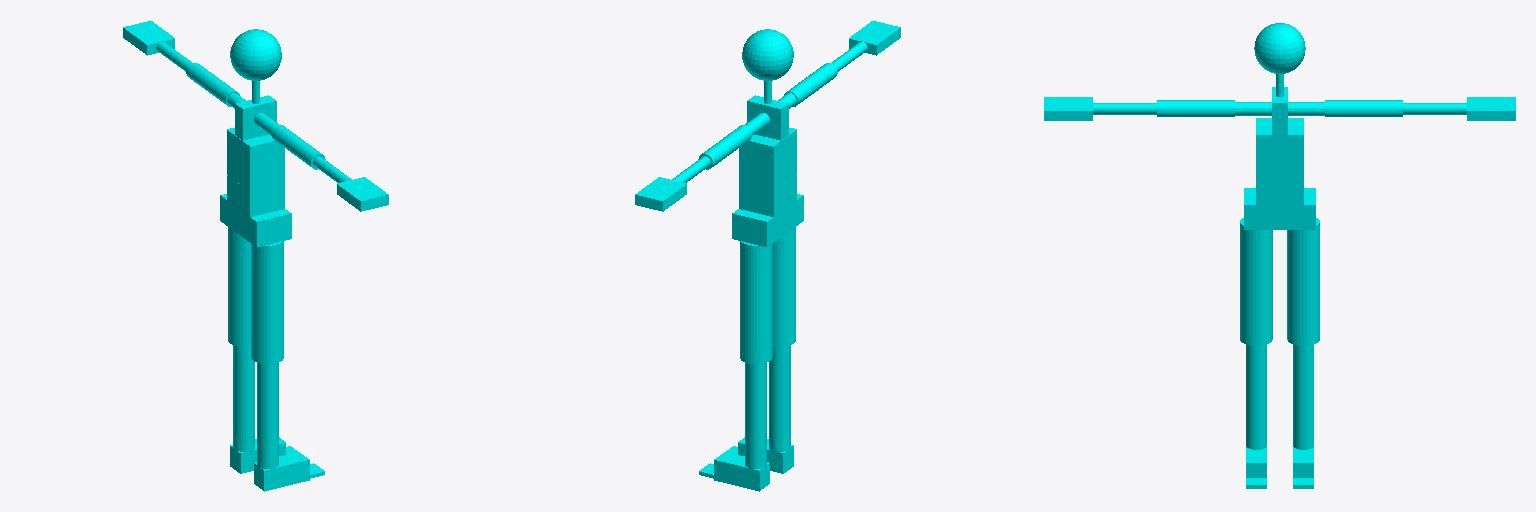
--- What the picture shows (computed from the rendered views, not written in the file) ---
The picture shows the robot from 3 angles, left to right: view 1: azimuth 30°, elevation 25°; view 2: azimuth 150°, elevation 25°; view 3: azimuth 270°, elevation 25°; orthographic projection.
Robot: XSensStyleModel_template — 67 links, 66 joints (66 revolute); root link Pelvis; default pose: all joints at 0.
Visible links, largest first — view 1: RightUpperLeg, LeftUpperLeg, RightLowerLeg, LeftLowerLeg, Head, Pelvis, T12, L5, RightFoot, L3, T8, RightHand (+4 smaller); view 2: LeftUpperLeg, RightUpperLeg, LeftLowerLeg, RightLowerLeg, Head, Pelvis, T12, L5, LeftFoot, L3, T8, LeftHand (+4 smaller); view 3: RightUpperLeg, LeftUpperLeg, Pelvis, RightLowerLeg, LeftLowerLeg, Head, T12, RightUpperArm, LeftUpperArm, L5, RightHand, LeftHand (+6 smaller).
Link boxes in pixels (x1,y1,x2,y2): RightUpperLeg: (251, 241, 283, 363); LeftUpperLeg: (228, 227, 250, 346); RightLowerLeg: (257, 363, 278, 468); LeftLowerLeg: (233, 345, 254, 451); Head: (230, 29, 281, 80); Pelvis: (220, 194, 291, 247); T12: (227, 128, 284, 169); L5: (227, 175, 284, 216); RightFoot: (254, 452, 309, 491); L3: (227, 153, 284, 191); T8: (235, 95, 276, 140); RightHand: (337, 177, 388, 211); LeftUpperLeg: (740, 241, 772, 363); RightUpperLeg: (773, 227, 795, 346); LeftLowerLeg: (745, 363, 766, 468); RightLowerLeg: (769, 345, 790, 451); Head: (742, 29, 793, 80); Pelvis: (732, 194, 803, 247); T12: (739, 128, 796, 169); L5: (739, 175, 796, 216); LeftFoot: (714, 452, 769, 491); L3: (739, 153, 796, 191); T8: (747, 95, 788, 140); LeftHand: (635, 177, 686, 211); RightUpperLeg: (1240, 218, 1272, 345); LeftUpperLeg: (1287, 218, 1319, 345); Pelvis: (1244, 188, 1315, 229); RightLowerLeg: (1246, 345, 1266, 449); LeftLowerLeg: (1293, 345, 1313, 449); Head: (1254, 23, 1305, 73); T12: (1256, 118, 1303, 156); RightUpperArm: (1157, 100, 1234, 116); LeftUpperArm: (1325, 100, 1402, 116); L5: (1256, 180, 1303, 204); RightHand: (1044, 97, 1092, 120); LeftHand: (1467, 97, 1515, 120).
Bounding box of the posed robot: 0.2938 × 1.63 × 1.69 m (x, y, z).
Geometry: primitives only (box / cylinder / sphere), no mesh files.

robot.urdf — XSensStyleModel_template:
<!--URDF MODEL 66 DoFs-->

<robot name="XSensStyleModel_template">
	<!--To open this model with Gazebo replace the null masses, inertias and dimensions of the 'fake links f1 and f2'-->
	<!--LINKS-->
	<!--Link base (1)-->
	<link name="Pelvis">
		<inertial>
			<mass value="4.976"/>
			<!--COM origin wrt pHipOrigin-->
			<origin xyz="0           0    0.049743" rpy="0 0 0" />
			<inertia ixx="0.029678" iyy="0.011854" izz="0.033653" ixy="0" ixz="0" iyz="0"/>
		</inertial>

		<visual>
			<!--box origin wrt pHipOrigin-->
			<origin xyz="0           0    0.049743" rpy="0 0 0" />
			<geometry>
				<box size="0.13815     0.24914    0.097469"/>
			</geometry>
			<material name="Cyan">
				<color rgba="0 1.0 1.0 1.0"/>
			</material>
		</visual>

		<collision>
			<!--box origin wrt pHipOrigin-->
			<origin xyz="0           0    0.049743" rpy="0 0 0" />
			<geometry>
				<box size="0.13815     0.24914    0.097469"/>
			</geometry>
			<material name="Cyan">
				<color rgba="0 1.0 1.0 1.0"/>
			</material>
		</collision>

	</link>
	<!--Chain from (2) to (7)-->
	<link name="L5_f1">
		<inertial>
			<mass value="0"/>
			<origin xyz="0 0 0" rpy="0 0 0" />
			<inertia ixx="0" iyy="0" izz="0" ixy="0" ixz="0" iyz="0"/>
		</inertial>
	</link>
	<link name="L5_f2">
		<inertial>
			<mass value="0"/>
			<origin xyz="0 0 0" rpy="0 0 0" />
			<inertia ixx="0" iyy="0" izz="0" ixy="0" ixz="0" iyz="0"/>
		</inertial>
	</link>
	<link name="L5">
		<inertial>
			<mass value="6.3444"/>
			<!--COM origin wrt jL5S1-->
			<origin xyz="0           0    0.047552" rpy="0 0 0" />
			<inertia ixx="0.018868" iyy="0.014872" izz="0.024177" ixy="0" ixz="0" iyz="0"/>
		</inertial>

		<visual>
			<!--box origin origin wrt jL5S1-->
			<origin xyz="0           0    0.047552" rpy="0 0 0" />
			<geometry>
				<box size="0.13815     0.16323    0.095104"/>
			</geometry>
			<material name="Cyan">
				<color rgba="0 1.0 1.0 1.0"/>
			</material>
		</visual>

		<collision>
			<!--box origin origin wrt jL5S1-->
			<origin xyz="0           0    0.047552" rpy="0 0 0" />
			<geometry>
				<box size="0.13815     0.16323    0.095104"/>
			</geometry>
			<material name="Cyan">
				<color rgba="0 1.0 1.0 1.0"/>
			</material>
		</collision>
	</link>
	<link name="L3_f1">
		<inertial>
			<mass value="0"/>
			<origin xyz="0 0 0" rpy="0 0 0" />
			<inertia ixx="0" iyy="0" izz="0" ixy="0" ixz="0" iyz="0"/>
		</inertial>
	</link>
	<link name="L3_f2">
		<inertial>
			<mass value="0"/>
			<origin xyz="0 0 0" rpy="0 0 0" />
			<inertia ixx="0" iyy="0" izz="0" ixy="0" ixz="0" iyz="0"/>
		</inertial>
	</link>
	<link name="L3">
		<inertial>
			<mass value="6.3444"/>
			<!--COM origin wrt jL4L3-->
			<origin xyz="0           0    0.042958" rpy="0 0 0" />
			<inertia ixx="0.017989" iyy="0.013993" izz="0.024177" ixy="0" ixz="0" iyz="0"/>
		</inertial>

		<visual>
			<!--box origin origin wrt jL4L3-->
			<origin xyz="0           0    0.042958" rpy="0 0 0" />
			<geometry>
				<box size="0.13815     0.16323    0.085916"/>
			</geometry>
			<material name="Cyan">
				<color rgba="0 1.0 1.0 1.0"/>
			</material>
		</visual>

		<collision>
			<!--box origin origin wrt jL4L3-->
			<origin xyz="0           0    0.042958" rpy="0 0 0" />
			<geometry>
				<box size="0.13815     0.16323    0.085916"/>
			</geometry>
			<material name="Cyan">
				<color rgba="0 1.0 1.0 1.0"/>
			</material>
		</collision>
	</link>
	<link name="T12_f1">
		<inertial>
			<mass value="0"/>
			<origin xyz="0 0 0" rpy="0 0 0" />
			<inertia ixx="0" iyy="0" izz="0" ixy="0" ixz="0" iyz="0"/>
		</inertial>
	</link>
	<link name="T12_f2">
		<inertial>
			<mass value="0"/>
			<origin xyz="0 0 0" rpy="0 0 0" />
			<inertia ixx="0" iyy="0" izz="0" ixy="0" ixz="0" iyz="0"/>
		</inertial>
	</link>
	<link name="T12">
		<inertial>
			<mass value="6.3444"/>
			<!--COM origin wrt jL1T12-->
			<origin xyz="0           0    0.042958" rpy="0 0 0" />
			<inertia ixx="0.017989" iyy="0.013993" izz="0.024177" ixy="0" ixz="0" iyz="0"/>
		</inertial>

		<visual>
			<!--box origin origin wrt jL1T12-->
			<origin xyz="0           0    0.042958" rpy="0 0 0" />
			<geometry>
				<box size="0.13815     0.16323    0.085916"/>
			</geometry>
			<material name="Cyan">
				<color rgba="0 1.0 1.0 1.0"/>
			</material>
		</visual>

		<collision>
			<!--box origin origin wrt jL1T12-->
			<origin xyz="0           0    0.042958" rpy="0 0 0" />
			<geometry>
				<box size="0.13815     0.16323    0.085916"/>
			</geometry>
			<material name="Cyan">
				<color rgba="0 1.0 1.0 1.0"/>
			</material>
		</collision>
	</link>
	<link name="T8_f1">
		<inertial>
			<mass value="0"/>
			<origin xyz="0 0 0" rpy="0 0 0" />
			<inertia ixx="0" iyy="0" izz="0" ixy="0" ixz="0" iyz="0"/>
		</inertial>
	</link>
	<link name="T8_f2">
		<inertial>
			<mass value="0"/>
			<origin xyz="0 0 0" rpy="0 0 0" />
			<inertia ixx="0" iyy="0" izz="0" ixy="0" ixz="0" iyz="0"/>
		</inertial>
	</link>
	<link name="T8">
		<inertial>
			<mass value="2.488"/>
			<!--COM origin wrt jT9T8-->
			<origin xyz="0           0    0.059874" rpy="0 0 0" />
			<inertia ixx="0.0035473" iyy="0.0067278" izz="0.0043289" ixy="0" ixz="0" iyz="0"/>
		</inertial>

		<visual>
			<!--box origin wrt jT9T8-->
			<origin xyz="0           0    0.059874" rpy="0 0 0" />
			<geometry>
				<box size="0.13457    0.052626     0.11975"/>
			</geometry>
			<material name="Cyan">
				<color rgba="0 1.0 1.0 1.0"/>
			</material>
		</visual>

		<collision>
			<!--box origin wrt jT9T8-->
			<origin xyz="0           0    0.059874" rpy="0 0 0" />
			<geometry>
				<box size="0.13457    0.052626     0.11975"/>
			</geometry>
			<material name="Cyan">
				<color rgba="0 1.0 1.0 1.0"/>
			</material>
		</collision>

	</link>
	<link name="Neck_f1">
		<inertial>
			<mass value="0"/>
			<origin xyz="0 0 0" rpy="0 0 0" />
			<inertia ixx="0" iyy="0" izz="0" ixy="0" ixz="0" iyz="0"/>
		</inertial>
	</link>
	<link name="Neck_f2">
		<inertial>
			<mass value="0"/>
			<origin xyz="0 0 0" rpy="0 0 0" />
			<inertia ixx="0" iyy="0" izz="0" ixy="0" ixz="0" iyz="0"/>
		</inertial>
	</link>
	<link name="Neck">
		<inertial>
			<mass value="0.7464"/>
			<!--COM origin wrt jT1C7-->
			<origin xyz="0           0    0.044626" rpy="0 0 0" />
			<inertia ixx="0.0006461" iyy="0.0006461" izz="0.00030124" ixy="0" ixz="0" iyz="0"/>
		</inertial>

		<visual>
			<!--box origin wrt jT1C7-->
			<origin xyz="0           0    0.044626" rpy="0 0 0" />
			<geometry>
				<cylinder length="0.089252" radius="0.014205"/>
			</geometry>
			<material name="Cyan">
				<color rgba="0 1.0 1.0 1.0"/>
			</material>
		</visual>

		<collision>
			<!--box origin wrt jT1C7-->
			<origin xyz="0           0    0.044626" rpy="0 0 0" />
			<geometry>
				<cylinder length="0.089252" radius="0.014205"/>
			</geometry>
			<material name="Cyan">
				<color rgba="0 1.0 1.0 1.0"/>
			</material>
		</collision>
	</link>
	<link name="Head_f1">
		<inertial>
			<mass value="0"/>
			<origin xyz="0 0 0" rpy="0 0 0" />
			<inertia ixx="0" iyy="0" izz="0" ixy="0" ixz="0" iyz="0"/>
		</inertial>
	</link>
	<link name="Head_f2">
		<inertial>
			<mass value="0"/>
			<origin xyz="0 0 0" rpy="0 0 0" />
			<inertia ixx="0" iyy="0" izz="0" ixy="0" ixz="0" iyz="0"/>
		</inertial>
	</link>
	<link name="Head">
		<inertial>
			<mass value="2.2392"/>
			<!--COM origin wrt jC1Head-->
			<origin xyz="0           0    0.089005" rpy="0 0 0" />
			<inertia ixx="0.0070955" iyy="0.0070955" izz="0.0070955" ixy="0" ixz="0" iyz="0"/>
		</inertial>

		<visual>
			<!--boc origin wrt jC1Head-->
			<origin xyz="0           0    0.089005" rpy="0 0 0" />
			<geometry>
				<sphere radius="0.089005"/>
			</geometry>
			<material name="Cyan">
				<color rgba="0 1.0 1.0 1.0"/>
			</material>
		</visual>

		<collision>
			<!--box origin wrt jC1Head-->
			<origin xyz="0           0    0.089005" rpy="0 0 0" />
			<geometry>
				<sphere radius="0.089005"/>
			</geometry>
			<material name="Cyan">
				<color rgba="0 1.0 1.0 1.0"/>
			</material>
		</collision>

	</link>
	<!--Chain from (8) to (11)-->
	<link name="RightShoulder_f1">
		<inertial>
			<mass value="0"/>
			<origin xyz="0 0 0" rpy="0 0 0" />
			<inertia ixx="0" iyy="0" izz="0" ixy="0" ixz="0" iyz="0"/>
		</inertial>
	</link>
	<link name="RightShoulder_f2">
		<inertial>
			<mass value="0"/>
			<origin xyz="0 0 0" rpy="0 0 0" />
			<inertia ixx="0" iyy="0" izz="0" ixy="0" ixz="0" iyz="0"/>
		</inertial>
	</link>
	<link name="RightShoulder">
		<inertial>
			<mass value="1.9282"/>
			<!--COM origin wrt jRightC7Shoulder-->
			<origin xyz="0   -0.065233           0" rpy="0 0 0" />
			<inertia ixx="0.0030029" iyy="0.00053578" izz="0.0030029" ixy="0" ixz="0" iyz="0"/>
		</inertial>

		<visual>
			<!--box origin wrt jRightC7Shoulder. RPY rotated of pi/2.-->
			<origin xyz="0   -0.065233           0" rpy="1.5708 0 0" />
			<geometry>
				<cylinder length="0.13047" radius="0.023574"/>
			</geometry>
			<material name="Cyan">
				<color rgba="0 1.0 1.0 1.0"/>
			</material>
		</visual>

		<collision>
			<!--box origin wrt jRightC7Shoulder. RPY rotated of pi/2.-->
			<origin xyz="0   -0.065233           0" rpy="1.5708 0 0" />
			<geometry>
				<cylinder length="0.13047" radius="0.023574"/>
			</geometry>
			<material name="Cyan">
				<color rgba="0 1.0 1.0 1.0"/>
			</material>
		</collision>

	</link>
	<link name="RightUpperArm_f1">
		<inertial>
			<mass value="0"/>
			<origin xyz="0 0 0" rpy="0 0 0" />
			<inertia ixx="0" iyy="0" izz="0" ixy="0" ixz="0" iyz="0"/>
		</inertial>
	</link>
	<link name="RightUpperArm_f2">
		<inertial>
			<mass value="0"/>
			<origin xyz="0 0 0" rpy="0 0 0" />
			<inertia ixx="0" iyy="0" izz="0" ixy="0" ixz="0" iyz="0"/>
		</inertial>
	</link>
	<link name="RightUpperArm">
		<inertial>
			<mass value="1.866"/>
			<!--COM origin wrt jRightShoulder-->
			<origin xyz="0    -0.13497           0" rpy="0 0 0" />
			<inertia ixx="0.011736" iyy="0.00080917" izz="0.011736" ixy="0" ixz="0" iyz="0"/>
		</inertial>

		<visual>
			<!--box origin wrt jRightShoulder. RPY rotated of pi/2.-->
			<origin xyz="0    -0.13497           0" rpy="1.5708 0 0" />
			<geometry>
				<cylinder length="0.26994" radius="0.029449"/>
			</geometry>
			<material name="Cyan">
				<color rgba="0 1.0 1.0 1.0"/>
			</material>
		</visual>

		<collision>
			<!--box origin wrt jRightShoulder. RPY rotated of pi/2.-->
			<origin xyz="0    -0.13497           0" rpy="1.5708 0 0" />
			<geometry>
				<cylinder length="0.26994" radius="0.029449"/>
			</geometry>
			<material name="Cyan">
				<color rgba="0 1.0 1.0 1.0"/>
			</material>
		</collision>

	</link>
	<link name="RightForeArm_f1">
		<inertial>
			<mass value="0"/>
			<origin xyz="0 0 0" rpy="0 0 0" />
			<inertia ixx="0" iyy="0" izz="0" ixy="0" ixz="0" iyz="0"/>
		</inertial>
	</link>
	<link name="RightForeArm_f2">
		<inertial>
			<mass value="0"/>
			<origin xyz="0 0 0" rpy="0 0 0" />
			<inertia ixx="0" iyy="0" izz="0" ixy="0" ixz="0" iyz="0"/>
		</inertial>
	</link>
	<link name="RightForeArm">
		<inertial>
			<mass value="1.244"/>
			<!--COM origin wrt jRightElbow-->
			<origin xyz="0    -0.11124           0" rpy="0 0 0" />
			<inertia ixx="0.0052508" iyy="0.00023975" izz="0.0052508" ixy="0" ixz="0" iyz="0"/>
		</inertial>

		<visual>
			<!--box origin wrt jRightElbow. RPY rotated of pi/2.-->
			<origin xyz="0    -0.11124           0" rpy="1.5708 0 0" />
			<geometry>
				<cylinder length="0.22247" radius="0.019633"/>
			</geometry>
			<material name="Cyan">
				<color rgba="0 1.0 1.0 1.0"/>
			</material>
		</visual>

		<collision>
			<!--box origin wrt jRightElbow. RPY rotated of pi/2.-->
			<origin xyz="0    -0.11124           0" rpy="1.5708 0 0" />
			<geometry>
				<cylinder length="0.22247" radius="0.019633"/>
			</geometry>
			<material name="Cyan">
				<color rgba="0 1.0 1.0 1.0"/>
			</material>
		</collision>

	</link>
	<link name="RightHand_f1">
		<inertial>
			<mass value="0"/>
			<origin xyz="0 0 0" rpy="0 0 0" />
			<inertia ixx="0" iyy="0" izz="0" ixy="0" ixz="0" iyz="0"/>
		</inertial>
	</link>
	<link name="RightHand_f2">
		<inertial>
			<mass value="0"/>
			<origin xyz="0 0 0" rpy="0 0 0" />
			<inertia ixx="0" iyy="0" izz="0" ixy="0" ixz="0" iyz="0"/>
		</inertial>
	</link>
	<link name="RightHand">
		<inertial>
			<mass value="0.3732"/>
			<!--COM origin wrt jRightWrist-->
			<origin xyz="0   -0.083588           0" rpy="0 0 0" />
			<inertia ixx="0.00091713" iyy="0.00043425" izz="0.0012555" ixy="0" ixz="0" iyz="0"/>
		</inertial>

		<visual>
			<!--box origin wrt jRightWrist-->
			<origin xyz="0   -0.083588           0" rpy="0 0 0" />
			<geometry>
				<box size="0.11145     0.16718    0.039266"/>
			</geometry>
			<material name="Cyan">
				<color rgba="0 1.0 1.0 1.0"/>
			</material>
		</visual>

		<collision>
			<!--box origin wrt jRightWrist-->
			<origin xyz="0   -0.083588           0" rpy="0 0 0" />
			<geometry>
				<box size="0.11145     0.16718    0.039266"/>
			</geometry>
			<material name="Cyan">
				<color rgba="0 1.0 1.0 1.0"/>
			</material>
		</collision>

	</link>
	<!--Chain from (12) to (15)-->
	<link name="LeftShoulder_f1">
		<inertial>
			<mass value="0"/>
			<origin xyz="0 0 0" rpy="0 0 0" />
			<inertia ixx="0" iyy="0" izz="0" ixy="0" ixz="0" iyz="0"/>
		</inertial>
	</link>
	<link name="LeftShoulder_f2">
		<inertial>
			<mass value="0"/>
			<origin xyz="0 0 0" rpy="0 0 0" />
			<inertia ixx="0" iyy="0" izz="0" ixy="0" ixz="0" iyz="0"/>
		</inertial>
	</link>
	<link name="LeftShoulder">
		<inertial>
			<mass value="1.9282"/>
			<!--COM origin wrt jLeftC7Shoulder-->
			<origin xyz="0    0.065233           0" rpy="0 0 0" />
			<inertia ixx="0.0030029" iyy="0.00053578" izz="0.0030029" ixy="0" ixz="0" iyz="0"/>
		</inertial>

		<visual>
			<!--box origin wrt jLeftC7Shoulder. RPY rotated of pi/2.-->
			<origin xyz="0    0.065233           0" rpy="1.5708 0 0" />
			<geometry>
				<cylinder length="0.13047" radius="0.023574"/>
			</geometry>
			<material name="Cyan">
				<color rgba="0 1.0 1.0 1.0"/>
			</material>
		</visual>

		<collision>
			<!--box origin wrt jLeftC7Shoulder. RPY rotated of pi/2.-->
			<origin xyz="0    0.065233           0" rpy="1.5708 0 0" />
			<geometry>
				<cylinder length="0.13047" radius="0.023574"/>
			</geometry>
			<material name="Cyan">
				<color rgba="0 1.0 1.0 1.0"/>
			</material>
		</collision>

	</link>
	<link name="LeftUpperArm_f1">
		<inertial>
			<mass value="0"/>
			<origin xyz="0 0 0" rpy="0 0 0" />
			<inertia ixx="0" iyy="0" izz="0" ixy="0" ixz="0" iyz="0"/>
		</inertial>
	</link>
	<link name="LeftUpperArm_f2">
		<inertial>
			<mass value="0"/>
			<origin xyz="0 0 0" rpy="0 0 0" />
			<inertia ixx="0" iyy="0" izz="0" ixy="0" ixz="0" iyz="0"/>
		</inertial>
	</link>
	<link name="LeftUpperArm">
		<inertial>
			<mass value="1.866"/>
			<!--COM origin wrt jLeftShoulder-->
			<origin xyz="0     0.13497           0" rpy="0 0 0" />
			<inertia ixx="0.011736" iyy="0.00080917" izz="0.011736" ixy="0" ixz="0" iyz="0"/>
		</inertial>

		<visual>
			<!--box origin wrt jLeftShoulder. RPY rotated of pi/2.-->
			<origin xyz="0     0.13497           0" rpy="1.5708 0 0" />
			<geometry>
				<cylinder length="0.26994" radius="0.029449"/>
			</geometry>
			<material name="Cyan">
				<color rgba="0 1.0 1.0 1.0"/>
			</material>
		</visual>

		<collision>
			<!--box origin wrt jLeftShoulder. RPY rotated of pi/2.-->
			<origin xyz="0     0.13497           0" rpy="1.5708 0 0" />
			<geometry>
				<cylinder length="0.26994" radius="0.029449"/>
			</geometry>
			<material name="Cyan">
				<color rgba="0 1.0 1.0 1.0"/>
			</material>
		</collision>

	</link>
	<link name="LeftForeArm_f1">
		<inertial>
			<mass value="0"/>
			<origin xyz="0 0 0" rpy="0 0 0" />
			<inertia ixx="0" iyy="0" izz="0" ixy="0" ixz="0" iyz="0"/>
		</inertial>
	</link>
	<link name="LeftForeArm_f2">
		<inertial>
			<mass value="0"/>
			<origin xyz="0 0 0" rpy="0 0 0" />
			<inertia ixx="0" iyy="0" izz="0" ixy="0" ixz="0" iyz="0"/>
		</inertial>
	</link>
	<link name="LeftForeArm">
		<inertial>
			<mass value="1.244"/>
			<!--COM origin wrt jLeftElbow-->
			<origin xyz="0     0.11124           0" rpy="0 0 0" />
			<inertia ixx="0.0052508" iyy="0.00023975" izz="0.0052508" ixy="0" ixz="0" iyz="0"/>
		</inertial>

		<visual>
			<!--box origin wrt jLeftElbow. RPY rotated of pi/2.-->
			<origin xyz="0     0.11124           0" rpy="1.5708 0 0" />
			<geometry>
				<cylinder length="0.22247" radius="0.019633"/>
			</geometry>
			<material name="Cyan">
				<color rgba="0 1.0 1.0 1.0"/>
			</material>
		</visual>

		<collision>
			<!--box origin wrt jLeftElbow. RPY rotated of pi/2.-->
			<origin xyz="0     0.11124           0" rpy="1.5708 0 0" />
			<geometry>
				<cylinder length="0.22247" radius="0.019633"/>
			</geometry>
			<material name="Cyan">
				<color rgba="0 1.0 1.0 1.0"/>
			</material>
		</collision>

	</link>
	<link name="LeftHand_f1">
		<inertial>
			<mass value="0"/>
			<origin xyz="0 0 0" rpy="0 0 0" />
			<inertia ixx="0" iyy="0" izz="0" ixy="0" ixz="0" iyz="0"/>
		</inertial>
	</link>
	<link name="LeftHand_f2">
		<inertial>
			<mass value="0"/>
			<origin xyz="0 0 0" rpy="0 0 0" />
			<inertia ixx="0" iyy="0" izz="0" ixy="0" ixz="0" iyz="0"/>
		</inertial>
	</link>
	<link name="LeftHand">
		<inertial>
			<mass value="0.3732"/>
			<!--COM origin wrt jLeftWrist-->
			<origin xyz="0    0.083588           0" rpy="0 0 0" />
			<inertia ixx="0.00091713" iyy="0.00043425" izz="0.0012555" ixy="0" ixz="0" iyz="0"/>
		</inertial>

		<visual>
			<!--COM origin wrt jLeftWrist-->
			<origin xyz="0    0.083588           0" rpy="0 0 0" />
			<geometry>
				<box size="0.11145     0.16718    0.039266"/>
			</geometry>
			<material name="Cyan">
				<color rgba="0 1.0 1.0 1.0"/>
			</material>
		</visual>

		<collision>
			<!--COM origin wrt jLeftWrist-->
			<origin xyz="0    0.083588           0" rpy="0 0 0" />
			<geometry>
				<box size="0.11145     0.16718    0.039266"/>
			</geometry>
			<material name="Cyan">
				<color rgba="0 1.0 1.0 1.0"/>
			</material>
		</collision>

	</link>
	<!--Chain from (16) to (19)-->
	<link name="RightUpperLeg_f1">
		<inertial>
			<mass value="0"/>
			<origin xyz="0 0 0" rpy="0 0 0" />
			<inertia ixx="0" iyy="0" izz="0" ixy="0" ixz="0" iyz="0"/>
		</inertial>
	</link>
	<link name="RightUpperLeg_f2">
		<inertial>
			<mass value="0"/>
			<origin xyz="0 0 0" rpy="0 0 0" />
			<inertia ixx="0" iyy="0" izz="0" ixy="0" ixz="0" iyz="0"/>
		</inertial>
	</link>
	<link name="RightUpperLeg">
		<inertial>
			<mass value="7.775"/>
			<!--COM origin wrt jRightHip-->
			<origin xyz="0           0    -0.22449" rpy="0 0 0" />
			<inertia ixx="0.13681" iyy="0.13681" izz="0.01241" ixy="0" ixz="0" iyz="0"/>
		</inertial>

		<visual>
			<!--box origin wrt jRightHip-->
			<origin xyz="0           0    -0.22449" rpy="0 0 0" />
			<geometry>
				<cylinder length="0.44898" radius="0.0565"/>
			</geometry>
			<material name="Cyan">
				<color rgba="0 1.0 1.0 1.0"/>
			</material>
		</visual>

		<collision>
			<!--box origin wrt jRightHip-->
			<origin xyz="0           0    -0.22449" rpy="0 0 0" />
			<geometry>
				<cylinder length="0.44898" radius="0.0565"/>
			</geometry>
			<material name="Cyan">
				<color rgba="0 1.0 1.0 1.0"/>
			</material>
		</collision>

	</link>
	<link name="RightLowerLeg_f1">
		<inertial>
			<mass value="0"/>
			<origin xyz="0 0 0" rpy="0 0 0" />
			<inertia ixx="0" iyy="0" izz="0" ixy="0" ixz="0" iyz="0"/>
		</inertial>
	</link>
	<link name="RightLowerLeg_f2">
		<inertial>
			<mass value="0"/>
			<origin xyz="0 0 0" rpy="0 0 0" />
			<inertia ixx="0" iyy="0" izz="0" ixy="0" ixz="0" iyz="0"/>
		</inertial>
	</link>
	<link name="RightLowerLeg">
		<inertial>
			<mass value="2.2703"/>
			<!--COM origin wrt jRightKnee-->
			<origin xyz="0           0    -0.20304" rpy="0 0 0" />
			<inertia ixx="0.031992" iyy="0.031992" izz="0.0015867" ixy="0" ixz="0" iyz="0"/>
		</inertial>

		<visual>
			<!--box origin wrt jRightKnee-->
			<origin xyz="0           0    -0.20304" rpy="0 0 0" />
			<geometry>
				<cylinder length="0.40608" radius="0.037388"/>
			</geometry>
			<material name="Cyan">
				<color rgba="0 1.0 1.0 1.0"/>
			</material>
		</visual>

		<collision>
			<!--box origin wrt jRightKnee-->
			<origin xyz="0           0    -0.20304" rpy="0 0 0" />
			<geometry>
				<cylinder length="0.40608" radius="0.037388"/>
			</geometry>
			<material name="Cyan">
				<color rgba="0 1.0 1.0 1.0"/>
			</material>
		</collision>

	</link>
	<link name="RightFoot_f1">
		<inertial>
			<mass value="0"/>
			<origin xyz="0 0 0" rpy="0 0 0" />
			<inertia ixx="0" iyy="0" izz="0" ixy="0" ixz="0" iyz="0"/>
		</inertial>
	</link>
	<link name="RightFoot_f2">
		<inertial>
			<mass value="0"/>
			<origin xyz="0 0 0" rpy="0 0 0" />
			<inertia ixx="0" iyy="0" izz="0" ixy="0" ixz="0" iyz="0"/>
		</inertial>
	</link>
	<link name="RightFoot">
		<inertial>
			<mass value="0.8086"/>
			<!--COM origin wrt jRightAnkle-->
			<origin xyz="0.054652           0   -0.039254" rpy="0 0 0" />
			<inertia ixx="0.00079209" iyy="0.0025944" izz="0.0025558" ixy="0" ixz="0" iyz="0"/>
		</inertial>

		<visual>
			<!--box origin wrt jRightAnkle-->
			<origin xyz="0.054652           0   -0.039254" rpy="0 0 0" />
			<geometry>
				<box size="0.17983    0.074775    0.078509"/>
			</geometry>
			<material name="Cyan">
				<color rgba="0 1.0 1.0 1.0"/>
			</material>
		</visual>

		<collision>
			<!--box origin wrt jRightAnkle-->
			<origin xyz="0.054652           0   -0.039254" rpy="0 0 0" />
			<geometry>
				<box size="0.17983    0.074775    0.078509"/>
			</geometry>
			<material name="Cyan">
				<color rgba="0 1.0 1.0 1.0"/>
			</material>
		</collision>

	</link>
	<link name="RightToe_f1">
		<inertial>
			<mass value="0"/>
			<origin xyz="0 0 0" rpy="0 0 0" />
			<inertia ixx="0" iyy="0" izz="0" ixy="0" ixz="0" iyz="0"/>
		</inertial>
	</link>
	<link name="RightToe_f2">
		<inertial>
			<mass value="0"/>
			<origin xyz="0 0 0" rpy="0 0 0" />
			<inertia ixx="0" iyy="0" izz="0" ixy="0" ixz="0" iyz="0"/>
		</inertial>
	</link>
	<link name="RightToe">
		<inertial>
			<mass value="0.0933"/>
			<!--COM origin wrt jRightBallFoot-->
			<origin xyz="0.030086           0           0" rpy="0 0 0" />
			<inertia ixx="4.5038e-05" iyy="2.9717e-05" izz="7.1624e-05" ixy="0" ixz="0" iyz="0"/>
		</inertial>

		<visual>
			<!--box origin wrt jRightBallFoot-->
			<origin xyz="0.030086           0           0" rpy="0 0 0" />
			<geometry>
				<box size="0.060173    0.074775    0.014191"/>
			</geometry>
			<material name="Cyan">
				<color rgba="0 1.0 1.0 1.0"/>
			</material>
		</visual>

		<collision>
			<!--box origin wrt jRightBallFoot-->
			<origin xyz="0.030086           0           0" rpy="0 0 0" />
			<geometry>
				<box size="0.060173    0.074775    0.014191"/>
			</geometry>
			<material name="Cyan">
				<color rgba="0 1.0 1.0 1.0"/>
			</material>
		</collision>
	</link>
	<!--Chain from (20) to (23)-->
	<link name="LeftUpperLeg_f1">
		<inertial>
			<mass value="0"/>
			<origin xyz="0 0 0" rpy="0 0 0" />
			<inertia ixx="0" iyy="0" izz="0" ixy="0" ixz="0" iyz="0"/>
		</inertial>
	</link>
	<link name="LeftUpperLeg_f2">
		<inertial>
			<mass value="0"/>
			<origin xyz="0 0 0" rpy="0 0 0" />
			<inertia ixx="0" iyy="0" izz="0" ixy="0" ixz="0" iyz="0"/>
		</inertial>
	</link>
	<link name="LeftUpperLeg">
		<inertial>
			<mass value="7.775"/>
			<!--COM origin wrt jLeftHip-->
			<origin xyz="0           0    -0.22449" rpy="0 0 0" />
			<inertia ixx="0.13681" iyy="0.13681" izz="0.01241" ixy="0" ixz="0" iyz="0"/>
		</inertial>

		<visual>
			<!--box origin wrt jLeftHip-->
			<origin xyz="0           0    -0.22449" rpy="0 0 0" />
			<geometry>
				<cylinder length="0.44898" radius="0.0565"/>
			</geometry>
			<material name="Cyan">
				<color rgba="0 1.0 1.0 1.0"/>
			</material>
		</visual>

		<collision>
			<!--box origin wrt jLeftHip-->
			<origin xyz="0           0    -0.22449" rpy="0 0 0" />
			<geometry>
				<cylinder length="0.44898" radius="0.0565"/>
			</geometry>
			<material name="Cyan">
				<color rgba="0 1.0 1.0 1.0"/>
			</material>
		</collision>

	</link>
	<link name="LeftLowerLeg_f1">
		<inertial>
			<mass value="0"/>
			<origin xyz="0 0 0" rpy="0 0 0" />
			<inertia ixx="0" iyy="0" izz="0" ixy="0" ixz="0" iyz="0"/>
		</inertial>
	</link>
	<link name="LeftLowerLeg_f2">
		<inertial>
			<mass value="0"/>
			<origin xyz="0 0 0" rpy="0 0 0" />
			<inertia ixx="0" iyy="0" izz="0" ixy="0" ixz="0" iyz="0"/>
		</inertial>
	</link>
	<link name="LeftLowerLeg">
		<inertial>
			<mass value="2.2703"/>
			<!--COM origin wrt jLeftKnee-->
			<origin xyz="0           0    -0.20304" rpy="0 0 0" />
			<inertia ixx="0.031992" iyy="0.031992" izz="0.0015867" ixy="0" ixz="0" iyz="0"/>
		</inertial>

		<visual>
			<!--box origin wrt jLeftKnee-->
			<origin xyz="0           0    -0.20304" rpy="0 0 0" />
			<geometry>
				<cylinder length="0.40608" radius="0.037388"/>
			</geometry>
			<material name="Cyan">
				<color rgba="0 1.0 1.0 1.0"/>
			</material>
		</visual>

		<collision>
			<!--box origin wrt jLeftKnee-->
			<origin xyz="0           0    -0.20304" rpy="0 0 0" />
			<geometry>
				<cylinder length="0.40608" radius="0.037388"/>
			</geometry>
			<material name="Cyan">
				<color rgba="0 1.0 1.0 1.0"/>
			</material>
		</collision>

	</link>
	<link name="LeftFoot_f1">
		<inertial>
			<mass value="0"/>
			<origin xyz="0 0 0" rpy="0 0 0" />
			<inertia ixx="0" iyy="0" izz="0" ixy="0" ixz="0" iyz="0"/>
		</inertial>
	</link>
	<link name="LeftFoot_f2">
		<inertial>
			<mass value="0"/>
			<origin xyz="0 0 0" rpy="0 0 0" />
			<inertia ixx="0" iyy="0" izz="0" ixy="0" ixz="0" iyz="0"/>
		</inertial>
	</link>
	<link name="LeftFoot">
		<inertial>
			<mass value="0.8086"/>
			<!--COM origin wrt jLeftAnkle-->
			<origin xyz="0.054652           0   -0.039254" rpy="0 0 0" />
			<inertia ixx="0.00079209" iyy="0.0025944" izz="0.0025558" ixy="0" ixz="0" iyz="0"/>
		</inertial>

		<visual>
			<!--box origin wrt jLeftAnkle-->
			<origin xyz="0.054652           0   -0.039254" rpy="0 0 0" />
			<geometry>
				<box size="0.17983    0.074775    0.078509"/>
			</geometry>
			<material name="Cyan">
				<color rgba="0 1.0 1.0 1.0"/>
			</material>
		</visual>

		<collision>
			<!--box origin wrt jLeftAnkle-->
			<origin xyz="0.054652           0   -0.039254" rpy="0 0 0" />
			<geometry>
				<box size="0.17983    0.074775    0.078509"/>
			</geometry>
			<material name="Cyan">
				<color rgba="0 1.0 1.0 1.0"/>
			</material>
		</collision>

	</link>
	<link name="LeftToe_f1">
		<inertial>
			<mass value="0"/>
			<origin xyz="0 0 0" rpy="0 0 0" />
			<inertia ixx="0" iyy="0" izz="0" ixy="0" ixz="0" iyz="0"/>
		</inertial>
	</link>
	<link name="LeftToe_f2">
		<inertial>
			<mass value="0"/>
			<origin xyz="0 0 0" rpy="0 0 0" />
			<inertia ixx="0" iyy="0" izz="0" ixy="0" ixz="0" iyz="0"/>
		</inertial>
	</link>
	<link name="LeftToe">
		<inertial>
			<mass value="0.0933"/>
			<!--COM origin wrt jLeftBallFoot-->
			<origin xyz="0.030086           0           0" rpy="0 0 0" />
			<inertia ixx="4.5038e-05" iyy="2.9717e-05" izz="7.1624e-05" ixy="0" ixz="0" iyz="0"/>
		</inertial>

		<visual>
			<!--box origin wrt jLeftBallFoot-->
			<origin xyz="0.030086           0           0" rpy="0 0 0" />
			<geometry>
				<box size="0.060173    0.074775    0.014191"/>
			</geometry>
			<material name="Cyan">
				<color rgba="0 1.0 1.0 1.0"/>
			</material>
		</visual>

		<collision>
			<!--box origin wrt jLeftBallFoot-->
			<origin xyz="0.030086           0           0" rpy="0 0 0" />
			<geometry>
				<box size="0.060173    0.074775    0.014191"/>
			</geometry>
			<material name="Cyan">
				<color rgba="0 1.0 1.0 1.0"/>
			</material>
		</collision>
	</link>


	<!--JOINTS-->
	<!--Chain from (2) to (7)-->
	<joint name="jL5S1_rotx" type="revolute">
		<origin xyz="-0.000206           0    0.098478" rpy="0 0 0"/>
		<parent link="Pelvis"/>
		<child link="L5_f1"/>
		<dynamics damping="0.1" friction="0.0"/>
		<limit effort="30" velocity="1.0" lower="-10.0" upper="10.0" />
		<axis xyz="1 0 0" />
	</joint>
	<joint name="jL5S1_roty" type="revolute">
		<origin xyz="0 0 0" rpy="0 0 0"/>
		<parent link="L5_f1"/>
		<child link="L5_f2"/>
		<dynamics damping="0.1" friction="0.0"/>
		<limit effort="30" velocity="1.0" lower="-10.0" upper="10.0" />
		<axis xyz="0 1 0" />
	</joint>
	<joint name="jL5S1_rotz" type="revolute">
		<origin xyz="0 0 0" rpy="0 0 0"/>
		<parent link="L5_f2"/>
		<child link="L5"/>
		<dynamics damping="0.1" friction="0.0"/>
		<limit effort="30" velocity="1.0" lower="-10.0" upper="10.0" />
		<axis xyz="0 0 1" />
	</joint>
	<joint name="jL4L3_rotx" type="revolute">
		<origin xyz="0.000374           0    0.095104" rpy="0 0 0"/>
		<parent link="L5"/>
		<child link="L3_f1"/>
		<dynamics damping="0.1" friction="0.0"/>
		<limit effort="30" velocity="1.0" lower="-10.0" upper="10.0" />
		<axis xyz="1 0 0" />
	</joint>
	<joint name="jL4L3_roty" type="revolute">
		<origin xyz="0 0 0" rpy="0 0 0"/>
		<parent link="L3_f1"/>
		<child link="L3_f2"/>
		<dynamics damping="0.1" friction="0.0"/>
		<limit effort="30" velocity="1.0" lower="-10.0" upper="10.0" />
		<axis xyz="0 1 0" />
	</joint>
	<joint name="jL4L3_rotz" type="revolute">
		<origin xyz="0 0 0" rpy="0 0 0"/>
		<parent link="L3_f2"/>
		<child link="L3"/>
		<dynamics damping="0.1" friction="0.0"/>
		<limit effort="30" velocity="1.0" lower="-10.0" upper="10.0" />
		<axis xyz="0 0 1" />
	</joint>
	<joint name="jL1T12_rotx" type="revolute">
		<origin xyz="0           0    0.085916" rpy="0 0 0"/>
		<parent link="L3"/>
		<child link="T12_f1"/>
		<dynamics damping="0.1" friction="0.0"/>
		<limit effort="30" velocity="1.0" lower="-10.0" upper="10.0" />
		<axis xyz="1 0 0" />
	</joint>
	<joint name="jL1T12_roty" type="revolute">
		<origin xyz="0 0 0" rpy="0 0 0"/>
		<parent link="T12_f1"/>
		<child link="T12_f2"/>
		<dynamics damping="0.1" friction="0.0"/>
		<limit effort="30" velocity="1.0" lower="-10.0" upper="10.0" />
		<axis xyz="0 1 0" />
	</joint>
	<joint name="jL1T12_rotz" type="revolute">
		<origin xyz="0 0 0" rpy="0 0 0"/>
		<parent link="T12_f2"/>
		<child link="T12"/>
		<dynamics damping="0.1" friction="0.0"/>
		<limit effort="30" velocity="1.0" lower="-10.0" upper="10.0" />
		<axis xyz="0 0 1" />
	</joint>
	<joint name="jT9T8_rotx" type="revolute">
		<origin xyz="0           0    0.085916" rpy="0 0 0"/>
		<parent link="T12"/>
		<child link="T8_f1"/>
		<dynamics damping="0.1" friction="0.0"/>
		<limit effort="30" velocity="1.0" lower="-10.0" upper="10.0" />
		<axis xyz="1 0 0" />
	</joint>
	<joint name="jT9T8_roty" type="revolute">
		<origin xyz="0 0 0" rpy="0 0 0"/>
		<parent link="T8_f1"/>
		<child link="T8_f2"/>
		<dynamics damping="0.1" friction="0.0"/>
		<limit effort="30" velocity="1.0" lower="-10.0" upper="10.0" />
		<axis xyz="0 1 0" />
	</joint>
	<joint name="jT9T8_rotz" type="revolute">
		<origin xyz="0 0 0" rpy="0 0 0"/>
		<parent link="T8_f2"/>
		<child link="T8"/>
		<dynamics damping="0.1" friction="0.0"/>
		<limit effort="30" velocity="1.0" lower="-10.0" upper="10.0" />
		<axis xyz="0 0 1" />
	</joint>
	<joint name="jT1C7_rotx" type="revolute">
		<origin xyz="0           0     0.11975" rpy="0 0 0"/>
		<parent link="T8"/>
		<child link="Neck_f1"/>
		<dynamics damping="0.1" friction="0.0"/>
		<limit effort="30" velocity="1.0" lower="-10.0" upper="10.0" />
		<axis xyz="1 0 0" />
	</joint>
	<joint name="jT1C7_roty" type="revolute">
		<origin xyz="0 0 0" rpy="0 0 0"/>
		<parent link="Neck_f1"/>
		<child link="Neck_f2"/>
		<dynamics damping="0.1" friction="0.0"/>
		<limit effort="30" velocity="1.0" lower="-10.0" upper="10.0" />
		<axis xyz="0 1 0" />
	</joint>
	<joint name="jT1C7_rotz" type="revolute">
		<origin xyz="0 0 0" rpy="0 0 0"/>
		<parent link="Neck_f2"/>
		<child link="Neck"/>
		<dynamics damping="0.1" friction="0.0"/>
		<limit effort="30" velocity="1.0" lower="-10.0" upper="10.0" />
		<axis xyz="0 0 1" />
	</joint>
	<joint name="jC1Head_rotx" type="revolute">
		<origin xyz="0.000152           0    0.089252" rpy="0 0 0"/>
		<parent link="Neck"/>
		<child link="Head_f1"/>
		<dynamics damping="0.1" friction="0.0"/>
		<limit effort="30" velocity="1.0" lower="-10.0" upper="10.0" />
		<axis xyz="1 0 0" />
	</joint>
	<joint name="jC1Head_roty" type="revolute">
		<origin xyz="0 0 0" rpy="0 0 0"/>
		<parent link="Head_f1"/>
		<child link="Head_f2"/>
		<dynamics damping="0.1" friction="0.0"/>
		<limit effort="30" velocity="1.0" lower="-10.0" upper="10.0" />
		<axis xyz="0 1 0" />
	</joint>
	<joint name="jC1Head_rotz" type="revolute">
		<origin xyz="0 0 0" rpy="0 0 0"/>
		<parent link="Head_f2"/>
		<child link="Head"/>
		<dynamics damping="0.1" friction="0.0"/>
		<limit effort="30" velocity="1.0" lower="-10.0" upper="10.0" />
		<axis xyz="0 0 1" />
	</joint>
	<!--Chain from (8) to (11)-->
	<joint name="jRightC7Shoulder_rotx" type="revolute">
		<origin xyz="0   -0.026313    0.067052" rpy="0 0 0"/>
		<parent link="T8"/>
		<child link="RightShoulder_f1"/>
		<dynamics damping="0.1" friction="0.0"/>
		<limit effort="30" velocity="1.0" lower="-10.0" upper="10.0" />
		<axis xyz="1 0 0" />
	</joint>
	<joint name="jRightC7Shoulder_roty" type="revolute">
		<origin xyz="0 0 0" rpy="0 0 0"/>
		<parent link="RightShoulder_f1"/>
		<child link="RightShoulder_f2"/>
		<dynamics damping="0.1" friction="0.0"/>
		<limit effort="30" velocity="1.0" lower="-10.0" upper="10.0" />
		<axis xyz="0 1 0" />
	</joint>
	<joint name="jRightC7Shoulder_rotz" type="revolute">
		<origin xyz="0 0 0" rpy="0 0 0"/>
		<parent link="RightShoulder_f2"/>
		<child link="RightShoulder"/>
		<dynamics damping="0.1" friction="0.0"/>
		<limit effort="30" velocity="1.0" lower="-10.0" upper="10.0" />
		<axis xyz="0 0 1" />
	</joint>
	<joint name="jRightShoulder_rotx" type="revolute">
		<origin xyz="0    -0.13047           0" rpy="0 0 0"/>
		<parent link="RightShoulder"/>
		<child link="RightUpperArm_f1"/>
		<dynamics damping="0.1" friction="0.0"/>
		<limit effort="30" velocity="1.0" lower="-10.0" upper="10.0" />
		<axis xyz="1 0 0" />
	</joint>
	<joint name="jRightShoulder_roty" type="revolute">
		<origin xyz="0 0 0" rpy="0 0 0"/>
		<parent link="RightUpperArm_f1"/>
		<child link="RightUpperArm_f2"/>
		<dynamics damping="0.1" friction="0.0"/>
		<limit effort="30" velocity="1.0" lower="-10.0" upper="10.0" />
		<axis xyz="0 1 0" />
	</joint>
	<joint name="jRightShoulder_rotz" type="revolute">
		<origin xyz="0 0 0" rpy="0 0 0"/>
		<parent link="RightUpperArm_f2"/>
		<child link="RightUpperArm"/>
		<dynamics damping="0.1" friction="0.0"/>
		<limit effort="30" velocity="1.0" lower="-10.0" upper="10.0" />
		<axis xyz="0 0 1" />
	</joint>
	<joint name="jRightElbow_rotx" type="revolute">
		<origin xyz="0    -0.26994           0" rpy="0 0 0"/>
		<parent link="RightUpperArm"/>
		<child link="RightForeArm_f1"/>
		<dynamics damping="0.1" friction="0.0"/>
		<limit effort="30" velocity="1.0" lower="-10.0" upper="10.0" />
		<axis xyz="1 0 0" />
	</joint>
	<joint name="jRightElbow_roty" type="revolute">
		<origin xyz="0 0 0" rpy="0 0 0"/>
		<parent link="RightForeArm_f1"/>
		<child link="RightForeArm_f2"/>
		<dynamics damping="0.1" friction="0.0"/>
		<limit effort="30" velocity="1.0" lower="-10.0" upper="10.0" />
		<axis xyz="0 1 0" />
	</joint>
	<joint name="jRightElbow_rotz" type="revolute">
		<origin xyz="0 0 0" rpy="0 0 0"/>
		<parent link="RightForeArm_f2"/>
		<child link="RightForeArm"/>
		<dynamics damping="0.1" friction="0.0"/>
		<limit effort="30" velocity="1.0" lower="-10.0" upper="10.0" />
		<axis xyz="0 0 1" />
	</joint>
	<joint name="jRightWrist_rotx" type="revolute">
		<origin xyz="7.7e-05    -0.22247           0" rpy="0 0 0"/>
		<parent link="RightForeArm"/>
		<child link="RightHand_f1"/>
		<dynamics damping="0.1" friction="0.0"/>
		<limit effort="30" velocity="1.0" lower="-10.0" upper="10.0" />
		<axis xyz="1 0 0" />
	</joint>
	<joint name="jRightWrist_roty" type="revolute">
		<origin xyz="0 0 0" rpy="0 0 0"/>
		<parent link="RightHand_f1"/>
		<child link="RightHand_f2"/>
		<dynamics damping="0.1" friction="0.0"/>
		<limit effort="30" velocity="1.0" lower="-10.0" upper="10.0" />
		<axis xyz="0 1 0" />
	</joint>
	<joint name="jRightWrist_rotz" type="revolute">
		<origin xyz="0 0 0" rpy="0 0 0"/>
		<parent link="RightHand_f2"/>
		<child link="RightHand"/>
		<dynamics damping="0.1" friction="0.0"/>
		<limit effort="30" velocity="1.0" lower="-10.0" upper="10.0" />
		<axis xyz="0 0 1" />
	</joint>
	<!--Chain from (12) to (15)-->
	<joint name="jLeftC7Shoulder_rotx" type="revolute">
		<origin xyz="0    0.026313    0.067052" rpy="0 0 0"/>
		<parent link="T8"/>
		<child link="LeftShoulder_f1"/>
		<dynamics damping="0.1" friction="0.0"/>
		<limit effort="30" velocity="1.0" lower="-10.0" upper="10.0" />
		<axis xyz="1 0 0" />
	</joint>
	<joint name="jLeftC7Shoulder_roty" type="revolute">
		<origin xyz="0 0 0" rpy="0 0 0"/>
		<parent link="LeftShoulder_f1"/>
		<child link="LeftShoulder_f2"/>
		<dynamics damping="0.1" friction="0.0"/>
		<limit effort="30" velocity="1.0" lower="-10.0" upper="10.0" />
		<axis xyz="0 1 0" />
	</joint>
	<joint name="jLeftC7Shoulder_rotz" type="revolute">
		<origin xyz="0 0 0" rpy="0 0 0"/>
		<parent link="LeftShoulder_f2"/>
		<child link="LeftShoulder"/>
		<dynamics damping="0.1" friction="0.0"/>
		<limit effort="30" velocity="1.0" lower="-10.0" upper="10.0" />
		<axis xyz="0 0 1" />
	</joint>
	<joint name="jLeftShoulder_rotx" type="revolute">
		<origin xyz="0     0.13047           0" rpy="0 0 0"/>
		<parent link="LeftShoulder"/>
		<child link="LeftUpperArm_f1"/>
		<dynamics damping="0.1" friction="0.0"/>
		<limit effort="30" velocity="1.0" lower="-10.0" upper="10.0" />
		<axis xyz="1 0 0" />
	</joint>
	<joint name="jLeftShoulder_roty" type="revolute">
		<origin xyz="0 0 0" rpy="0 0 0"/>
		<parent link="LeftUpperArm_f1"/>
		<child link="LeftUpperArm_f2"/>
		<dynamics damping="0.1" friction="0.0"/>
		<limit effort="30" velocity="1.0" lower="-10.0" upper="10.0" />
		<axis xyz="0 1 0" />
	</joint>
	<joint name="jLeftShoulder_rotz" type="revolute">
		<origin xyz="0 0 0" rpy="0 0 0"/>
		<parent link="LeftUpperArm_f2"/>
		<child link="LeftUpperArm"/>
		<dynamics damping="0.1" friction="0.0"/>
		<limit effort="30" velocity="1.0" lower="-10.0" upper="10.0" />
		<axis xyz="0 0 1" />
	</joint>
	<joint name="jLeftElbow_rotx" type="revolute">
		<origin xyz="0     0.26994           0" rpy="0 0 0"/>
		<parent link="LeftUpperArm"/>
		<child link="LeftForeArm_f1"/>
		<dynamics damping="0.1" friction="0.0"/>
		<limit effort="30" velocity="1.0" lower="-10.0" upper="10.0" />
		<axis xyz="1 0 0" />
	</joint>
	<joint name="jLeftElbow_roty" type="revolute">
		<origin xyz="0 0 0" rpy="0 0 0"/>
		<parent link="LeftForeArm_f1"/>
		<child link="LeftForeArm_f2"/>
		<dynamics damping="0.1" friction="0.0"/>
		<limit effort="30" velocity="1.0" lower="-10.0" upper="10.0" />
		<axis xyz="0 1 0" />
	</joint>
	<joint name="jLeftElbow_rotz" type="revolute">
		<origin xyz="0 0 0" rpy="0 0 0"/>
		<parent link="LeftForeArm_f2"/>
		<child link="LeftForeArm"/>
		<dynamics damping="0.1" friction="0.0"/>
		<limit effort="30" velocity="1.0" lower="-10.0" upper="10.0" />
		<axis xyz="0 0 1" />
	</joint>
	<joint name="jLeftWrist_rotx" type="revolute">
		<origin xyz="7.7e-05     0.22247           0" rpy="0 0 0"/>
		<parent link="LeftForeArm"/>
		<child link="LeftHand_f1"/>
		<dynamics damping="0.1" friction="0.0"/>
		<limit effort="30" velocity="1.0" lower="-10.0" upper="10.0" />
		<axis xyz="1 0 0" />
	</joint>
	<joint name="jLeftWrist_roty" type="revolute">
		<origin xyz="0 0 0" rpy="0 0 0"/>
		<parent link="LeftHand_f1"/>
		<child link="LeftHand_f2"/>
		<dynamics damping="0.1" friction="0.0"/>
		<limit effort="30" velocity="1.0" lower="-10.0" upper="10.0" />
		<axis xyz="0 1 0" />
	</joint>
	<joint name="jLeftWrist_rotz" type="revolute">
		<origin xyz="0 0 0" rpy="0 0 0"/>
		<parent link="LeftHand_f2"/>
		<child link="LeftHand"/>
		<dynamics damping="0.1" friction="0.0"/>
		<limit effort="30" velocity="1.0" lower="-10.0" upper="10.0" />
		<axis xyz="0 0 1" />
	</joint>
	<!--Chain from (16) to (19)-->
	<joint name="jRightHip_rotx" type="revolute">
		<origin xyz="0.000103   -0.081614    0.001009" rpy="0 0 0"/>
		<parent link="Pelvis"/>
		<child link="RightUpperLeg_f1"/>
		<dynamics damping="0.1" friction="0.0"/>
		<limit effort="30" velocity="1.0" lower="-10.0" upper="10.0" />
		<axis xyz="1 0 0" />
	</joint>
	<joint name="jRightHip_roty" type="revolute">
		<origin xyz="0 0 0" rpy="0 0 0"/>
		<parent link="RightUpperLeg_f1"/>
		<child link="RightUpperLeg_f2"/>
		<dynamics damping="0.1" friction="0.0"/>
		<limit effort="30" velocity="1.0" lower="-10.0" upper="10.0" />
		<axis xyz="0 1 0" />
	</joint>
	<joint name="jRightHip_rotz" type="revolute">
		<origin xyz="0 0 0" rpy="0 0 0"/>
		<parent link="RightUpperLeg_f2"/>
		<child link="RightUpperLeg"/>
		<dynamics damping="0.1" friction="0.0"/>
		<limit effort="30" velocity="1.0" lower="-10.0" upper="10.0" />
		<axis xyz="0 0 1" />
	</joint>
	<joint name="jRightKnee_rotx" type="revolute">
		<origin xyz="3.6e-05           0    -0.44898" rpy="0 0 0"/>
		<parent link="RightUpperLeg"/>
		<child link="RightLowerLeg_f1"/>
		<dynamics damping="0.1" friction="0.0"/>
		<limit effort="30" velocity="1.0" lower="-10.0" upper="10.0" />
		<axis xyz="1 0 0" />
	</joint>
	<joint name="jRightKnee_roty" type="revolute">
		<origin xyz="0 0 0" rpy="0 0 0"/>
		<parent link="RightLowerLeg_f1"/>
		<child link="RightLowerLeg_f2"/>
		<dynamics damping="0.1" friction="0.0"/>
		<limit effort="30" velocity="1.0" lower="-10.0" upper="10.0" />
		<axis xyz="0 1 0" />
	</joint>
	<joint name="jRightKnee_rotz" type="revolute">
		<origin xyz="0 0 0" rpy="0 0 0"/>
		<parent link="RightLowerLeg_f2"/>
		<child link="RightLowerLeg"/>
		<dynamics damping="0.1" friction="0.0"/>
		<limit effort="30" velocity="1.0" lower="-10.0" upper="10.0" />
		<axis xyz="0 0 1" />
	</joint>
	<joint name="jRightAnkle_rotx" type="revolute">
		<origin xyz="0.000205           0    -0.40608" rpy="0 0 0"/>
		<parent link="RightLowerLeg"/>
		<child link="RightFoot_f1"/>
		<dynamics damping="0.1" friction="0.0"/>
		<limit effort="30" velocity="1.0" lower="-10.0" upper="10.0" />
		<axis xyz="1 0 0" />
	</joint>
	<joint name="jRightAnkle_roty" type="revolute">
		<origin xyz="0 0 0" rpy="0 0 0"/>
		<parent link="RightFoot_f1"/>
		<child link="RightFoot_f2"/>
		<dynamics damping="0.1" friction="0.0"/>
		<limit effort="30" velocity="1.0" lower="-10.0" upper="10.0" />
		<axis xyz="0 1 0" />
	</joint>
	<joint name="jRightAnkle_rotz" type="revolute">
		<origin xyz="0 0 0" rpy="0 0 0"/>
		<parent link="RightFoot_f2"/>
		<child link="RightFoot"/>
		<dynamics damping="0.1" friction="0.0"/>
		<limit effort="30" velocity="1.0" lower="-10.0" upper="10.0" />
		<axis xyz="0 0 1" />
	</joint>
	<joint name="jRightBallFoot_rotx" type="revolute">
		<origin xyz="0.14456           0   -0.064752" rpy="0 0 0"/>
		<parent link="RightFoot"/>
		<child link="RightToe_f1"/>
		<dynamics damping="0.1" friction="0.0"/>
		<limit effort="30" velocity="1.0" lower="-10.0" upper="10.0" />
		<axis xyz="1 0 0" />
	</joint>
	<joint name="jRightBallFoot_roty" type="revolute">
		<origin xyz="0 0 0" rpy="0 0 0"/>
		<parent link="RightToe_f1"/>
		<child link="RightToe_f2"/>
		<dynamics damping="0.1" friction="0.0"/>
		<limit effort="30" velocity="1.0" lower="-10.0" upper="10.0" />
		<axis xyz="0 1 0" />
	</joint>
	<joint name="jRightBallFoot_rotz" type="revolute">
		<origin xyz="0 0 0" rpy="0 0 0"/>
		<parent link="RightToe_f2"/>
		<child link="RightToe"/>
		<dynamics damping="0.1" friction="0.0"/>
		<limit effort="30" velocity="1.0" lower="-10.0" upper="10.0" />
		<axis xyz="0 0 1" />
	</joint>
	<!--Chain from (20) to (23)-->
	<joint name="jLeftHip_rotx" type="revolute">
		<origin xyz="0.000103    0.081614    0.001009" rpy="0 0 0"/>
		<parent link="Pelvis"/>
		<child link="LeftUpperLeg_f1"/>
		<dynamics damping="0.1" friction="0.0"/>
		<limit effort="30" velocity="1.0" lower="-10.0" upper="10.0" />
		<axis xyz="1 0 0" />
	</joint>
	<joint name="jLeftHip_roty" type="revolute">
		<origin xyz="0 0 0" rpy="0 0 0"/>
		<parent link="LeftUpperLeg_f1"/>
		<child link="LeftUpperLeg_f2"/>
		<dynamics damping="0.1" friction="0.0"/>
		<limit effort="30" velocity="1.0" lower="-10.0" upper="10.0" />
		<axis xyz="0 1 0" />
	</joint>
	<joint name="jLeftHip_rotz" type="revolute">
		<origin xyz="0 0 0" rpy="0 0 0"/>
		<parent link="LeftUpperLeg_f2"/>
		<child link="LeftUpperLeg"/>
		<dynamics damping="0.1" friction="0.0"/>
		<limit effort="30" velocity="1.0" lower="-10.0" upper="10.0" />
		<axis xyz="0 0 1" />
	</joint>
	<joint name="jLeftKnee_rotx" type="revolute">
		<origin xyz="3.6e-05           0    -0.44898" rpy="0 0 0"/>
		<parent link="LeftUpperLeg"/>
		<child link="LeftLowerLeg_f1"/>
		<dynamics damping="0.1" friction="0.0"/>
		<limit effort="30" velocity="1.0" lower="-10.0" upper="10.0" />
		<axis xyz="1 0 0" />
	</joint>
	<joint name="jLeftKnee_roty" type="revolute">
		<origin xyz="0 0 0" rpy="0 0 0"/>
		<parent link="LeftLowerLeg_f1"/>
		<child link="LeftLowerLeg_f2"/>
		<dynamics damping="0.1" friction="0.0"/>
		<limit effort="30" velocity="1.0" lower="-10.0" upper="10.0" />
		<axis xyz="0 1 0" />
	</joint>
	<joint name="jLeftKnee_rotz" type="revolute">
		<origin xyz="0 0 0" rpy="0 0 0"/>
		<parent link="LeftLowerLeg_f2"/>
		<child link="LeftLowerLeg"/>
		<dynamics damping="0.1" friction="0.0"/>
		<limit effort="30" velocity="1.0" lower="-10.0" upper="10.0" />
		<axis xyz="0 0 1" />
	</joint>
	<joint name="jLeftAnkle_rotx" type="revolute">
		<origin xyz="0.000205           0    -0.40608" rpy="0 0 0"/>
		<parent link="LeftLowerLeg"/>
		<child link="LeftFoot_f1"/>
		<dynamics damping="0.1" friction="0.0"/>
		<limit effort="30" velocity="1.0" lower="-10.0" upper="10.0" />
		<axis xyz="1 0 0" />
	</joint>
	<joint name="jLeftAnkle_roty" type="revolute">
		<origin xyz="0 0 0" rpy="0 0 0"/>
		<parent link="LeftFoot_f1"/>
		<child link="LeftFoot_f2"/>
		<dynamics damping="0.1" friction="0.0"/>
		<limit effort="30" velocity="1.0" lower="-10.0" upper="10.0" />
		<axis xyz="0 1 0" />
	</joint>
	<joint name="jLeftAnkle_rotz" type="revolute">
		<origin xyz="0 0 0" rpy="0 0 0"/>
		<parent link="LeftFoot_f2"/>
		<child link="LeftFoot"/>
		<dynamics damping="0.1" friction="0.0"/>
		<limit effort="30" velocity="1.0" lower="-10.0" upper="10.0" />
		<axis xyz="0 0 1" />
	</joint>
	<joint name="jLeftBallFoot_rotx" type="revolute">
		<origin xyz="0.14456           0   -0.064752" rpy="0 0 0"/>
		<parent link="LeftFoot"/>
		<child link="LeftToe_f1"/>
		<dynamics damping="0.1" friction="0.0"/>
		<limit effort="30" velocity="1.0" lower="-10.0" upper="10.0" />
		<axis xyz="1 0 0" />
	</joint>
	<joint name="jLeftBallFoot_roty" type="revolute">
		<origin xyz="0 0 0" rpy="0 0 0"/>
		<parent link="LeftToe_f1"/>
		<child link="LeftToe_f2"/>
		<dynamics damping="0.1" friction="0.0"/>
		<limit effort="30" velocity="1.0" lower="-10.0" upper="10.0" />
		<axis xyz="0 1 0" />
	</joint>
	<joint name="jLeftBallFoot_rotz" type="revolute">
		<origin xyz="0 0 0" rpy="0 0 0"/>
		<parent link="LeftToe_f2"/>
		<child link="LeftToe"/>
		<dynamics damping="0.1" friction="0.0"/>
		<limit effort="30" velocity="1.0" lower="-10.0" upper="10.0" />
		<axis xyz="0 0 1" />
	</joint>

	<!-- Sensor  1-->
	<sensor name="Pelvis_gyro" type="gyroscope">
		<parent link="Pelvis"/>
		<origin xyz="-0.056756 -5.6944e-06    0.097055" rpy="-0.3247     0.95826      2.4984"/>
	</sensor>
	<sensor name="Pelvis_accelerometer" type="accelerometer">
		<parent link="Pelvis"/>
		<origin xyz="-0.056756 -5.6944e-06    0.097055" rpy="-0.3247     0.95826      2.4984"/>
	</sensor>
	<!-- Sensor  2-->
	<sensor name="T8_gyro" type="gyroscope">
		<parent link="T8"/>
		<origin xyz="0.1256  2.9265e-07    0.069079" rpy="0.054662      1.1921    0.026605"/>
	</sensor>
	<sensor name="T8_accelerometer" type="accelerometer">
		<parent link="T8"/>
		<origin xyz="0.1256  2.9265e-07    0.069079" rpy="0.054662      1.1921    0.026605"/>
	</sensor>
	<!-- Sensor  3-->
	<sensor name="Head_gyro" type="gyroscope">
		<parent link="Head"/>
		<origin xyz="-0.069574  4.0118e-07    0.076475" rpy="2.3602    0.029132     -1.6926"/>
	</sensor>
	<sensor name="Head_accelerometer" type="accelerometer">
		<parent link="Head"/>
		<origin xyz="-0.069574  4.0118e-07    0.076475" rpy="2.3602    0.029132     -1.6926"/>
	</sensor>
	<!-- Sensor  4-->
	<sensor name="RightShoulder_gyro" type="gyroscope">
		<parent link="RightShoulder"/>
		<origin xyz="-0.018859   -0.047148   -0.056578" rpy="1.3372    -0.28335     -1.4594"/>
	</sensor>
	<sensor name="RightShoulder_accelerometer" type="accelerometer">
		<parent link="RightShoulder"/>
		<origin xyz="-0.018859   -0.047148   -0.056578" rpy="1.3372    -0.28335     -1.4594"/>
	</sensor>
	<!-- Sensor  5-->
	<sensor name="RightUpperArm_gyro" type="gyroscope">
		<parent link="RightUpperArm"/>
		<origin xyz="-0.018123   -0.090613    0.018123" rpy="-0.15226    0.030142     -1.5884"/>
	</sensor>
	<sensor name="RightUpperArm_accelerometer" type="accelerometer">
		<parent link="RightUpperArm"/>
		<origin xyz="-0.018123   -0.090613    0.018123" rpy="-0.15226    0.030142     -1.5884"/>
	</sensor>
	<!-- Sensor  6-->
	<sensor name="RightForeArm_gyro" type="gyroscope">
		<parent link="RightForeArm"/>
		<origin xyz="0.0016793    -0.18323      0.0183" rpy="-1.1132    0.015024     -1.2543"/>
	</sensor>
	<sensor name="RightForeArm_accelerometer" type="accelerometer">
		<parent link="RightForeArm"/>
		<origin xyz="0.0016793    -0.18323      0.0183" rpy="-1.1132    0.015024     -1.2543"/>
	</sensor>
	<!-- Sensor  7-->
	<sensor name="RightHand_gyro" type="gyroscope">
		<parent link="RightHand"/>
		<origin xyz="-3.4565e-08   -0.050814    0.018478" rpy="-0.69083   -0.053849     -1.4329"/>
	</sensor>
	<sensor name="RightHand_accelerometer" type="accelerometer">
		<parent link="RightHand"/>
		<origin xyz="-3.4565e-08   -0.050814    0.018478" rpy="-0.69083   -0.053849     -1.4329"/>
	</sensor>
	<!-- Sensor  8-->
	<sensor name="LeftShoulder_gyro" type="gyroscope">
		<parent link="LeftShoulder"/>
		<origin xyz="-0.018859    0.047148   -0.056578" rpy="-1.1487    -0.34419      1.3655"/>
	</sensor>
	<sensor name="LeftShoulder_accelerometer" type="accelerometer">
		<parent link="LeftShoulder"/>
		<origin xyz="-0.018859    0.047148   -0.056578" rpy="-1.1487    -0.34419      1.3655"/>
	</sensor>
	<!-- Sensor  9-->
	<sensor name="LeftUpperArm_gyro" type="gyroscope">
		<parent link="LeftUpperArm"/>
		<origin xyz="-0.018123    0.090613    0.018123" rpy="0.094373   -0.042991      1.6861"/>
	</sensor>
	<sensor name="LeftUpperArm_accelerometer" type="accelerometer">
		<parent link="LeftUpperArm"/>
		<origin xyz="-0.018123    0.090613    0.018123" rpy="0.094373   -0.042991      1.6861"/>
	</sensor>
	<!-- Sensor  10-->
	<sensor name="LeftForeArm_gyro" type="gyroscope">
		<parent link="LeftForeArm"/>
		<origin xyz="0.0016791     0.18323    0.018301" rpy="0.90429     0.18107      1.1351"/>
	</sensor>
	<sensor name="LeftForeArm_accelerometer" type="accelerometer">
		<parent link="LeftForeArm"/>
		<origin xyz="0.0016791     0.18323    0.018301" rpy="0.90429     0.18107      1.1351"/>
	</sensor>
	<!-- Sensor  11-->
	<sensor name="LeftHand_gyro" type="gyroscope">
		<parent link="LeftHand"/>
		<origin xyz="1.1198e-08    0.050814    0.018478" rpy="1.2175   -0.077786      1.3837"/>
	</sensor>
	<sensor name="LeftHand_accelerometer" type="accelerometer">
		<parent link="LeftHand"/>
		<origin xyz="1.1198e-08    0.050814    0.018478" rpy="1.2175   -0.077786      1.3837"/>
	</sensor>
	<!-- Sensor  12-->
	<sensor name="RightUpperLeg_gyro" type="gyroscope">
		<parent link="RightUpperLeg"/>
		<origin xyz="0.012972    -0.04567    -0.26981" rpy="2.8247      1.4102      1.8304"/>
	</sensor>
	<sensor name="RightUpperLeg_accelerometer" type="accelerometer">
		<parent link="RightUpperLeg"/>
		<origin xyz="0.012972    -0.04567    -0.26981" rpy="2.8247      1.4102      1.8304"/>
	</sensor>
	<!-- Sensor  13-->
	<sensor name="RightLowerLeg_gyro" type="gyroscope">
		<parent link="RightLowerLeg"/>
		<origin xyz="0.030805   0.0070514    -0.13253" rpy="-2.9287      1.4733     -1.9582"/>
	</sensor>
	<sensor name="RightLowerLeg_accelerometer" type="accelerometer">
		<parent link="RightLowerLeg"/>
		<origin xyz="0.030805   0.0070514    -0.13253" rpy="-2.9287      1.4733     -1.9582"/>
	</sensor>
	<!-- Sensor  14-->
	<sensor name="RightFoot_gyro" type="gyroscope">
		<parent link="RightFoot"/>
		<origin xyz="0.083701   0.0013928   -0.011817" rpy="0.30301     0.49685    -0.19697"/>
	</sensor>
	<sensor name="RightFoot_accelerometer" type="accelerometer">
		<parent link="RightFoot"/>
		<origin xyz="0.083701   0.0013928   -0.011817" rpy="0.30301     0.49685    -0.19697"/>
	</sensor>
	<!-- Sensor  15-->
	<sensor name="LeftUpperLeg_gyro" type="gyroscope">
		<parent link="LeftUpperLeg"/>
		<origin xyz="0.012973     0.04567    -0.26981" rpy="-2.3214      1.4159     -1.1979"/>
	</sensor>
	<sensor name="LeftUpperLeg_accelerometer" type="accelerometer">
		<parent link="LeftUpperLeg"/>
		<origin xyz="0.012973     0.04567    -0.26981" rpy="-2.3214      1.4159     -1.1979"/>
	</sensor>
	<!-- Sensor  16-->
	<sensor name="LeftLowerLeg_gyro" type="gyroscope">
		<parent link="LeftLowerLeg"/>
		<origin xyz="0.030805  -0.0070515    -0.13253" rpy="-2.6156      1.3817      2.7867"/>
	</sensor>
	<sensor name="LeftLowerLeg_accelerometer" type="accelerometer">
		<parent link="LeftLowerLeg"/>
		<origin xyz="0.030805  -0.0070515    -0.13253" rpy="-2.6156      1.3817      2.7867"/>
	</sensor>
	<!-- Sensor  17-->
	<sensor name="LeftFoot_gyro" type="gyroscope">
		<parent link="LeftFoot"/>
		<origin xyz="0.083701  -0.0013929   -0.011817" rpy="-0.10862      0.4501     0.37976"/>
	</sensor>
	<sensor name="LeftFoot_accelerometer" type="accelerometer">
		<parent link="LeftFoot"/>
		<origin xyz="0.083701  -0.0013929   -0.011817" rpy="-0.10862      0.4501     0.37976"/>
	</sensor>


</robot>
